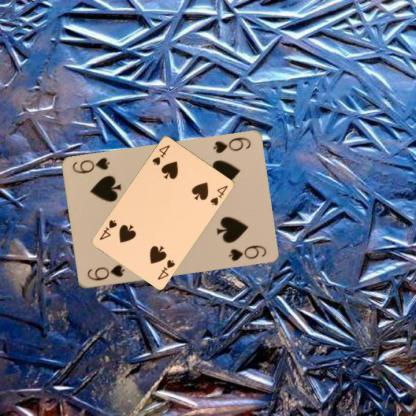4s: (155, 256, 178, 281), (150, 142, 171, 167)
6s: (84, 262, 126, 282), (210, 134, 252, 154)
